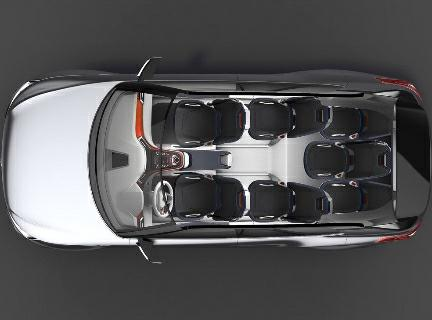双龙-途凌: (4, 58, 428, 265)
